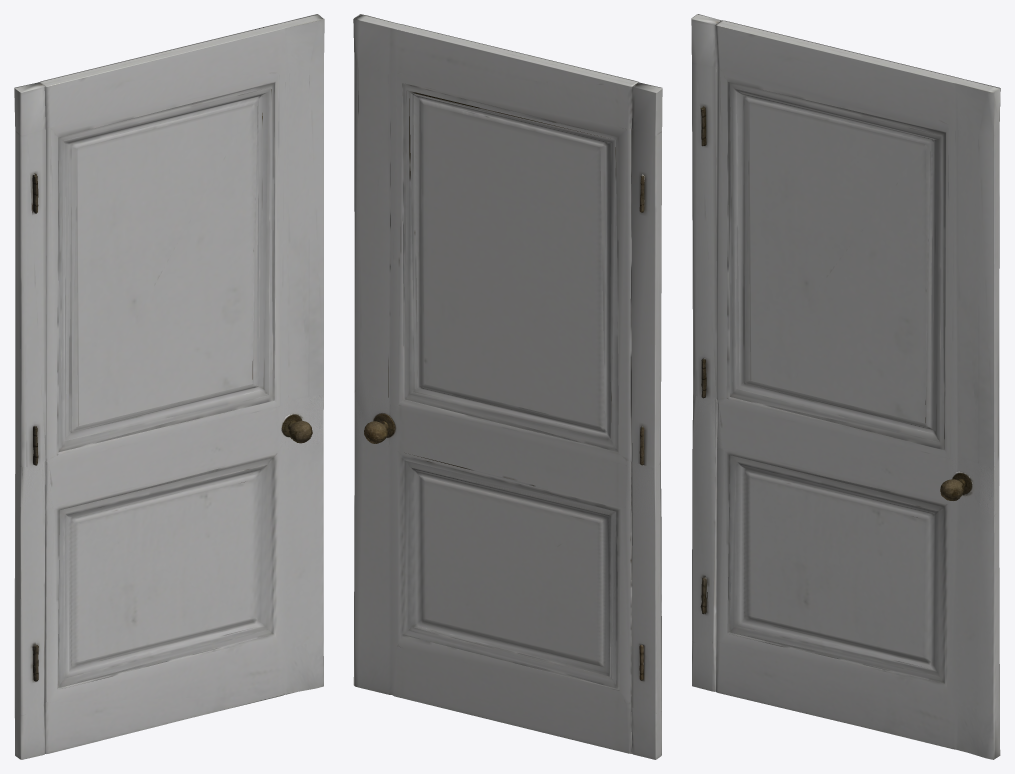
File: Meshy_AI_a_janitor_s_closet_door_0903105815_texture.glb
3 views of the same model, side by side, from view 1: azimuth 30°, elevation 25°; view 2: azimuth 150°, elevation 25°; view 3: azimuth 330°, elevation 25° (orthographic).
Visible parts, largest first — view 1: mesh_node; view 2: mesh_node; view 3: mesh_node.
Part boxes in pixels (x1=…): mesh_node: x1=14, y1=14, x2=324, y2=759; mesh_node: x1=353, y1=14, x2=662, y2=759; mesh_node: x1=691, y1=14, x2=1000, y2=759.
Size of the model in its own units: 0.4766 by 1 by 0.1033.
Materials: 1 (1 with a texture image).
